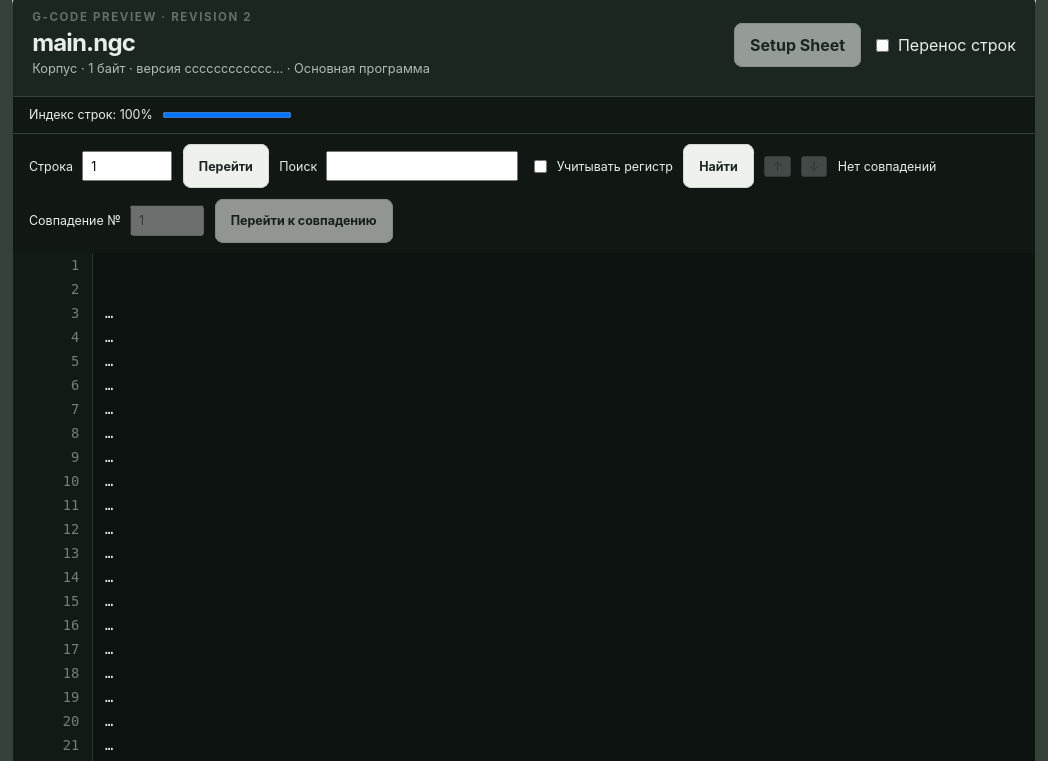
it: GCodePreview › pages through the complete virtual line range while wrapped rows use natural heights
Click the checkbox labelled "Перенос строк" at (882, 45), box top-left (876, 38), bottom-right (888, 52)
(page scrolled)
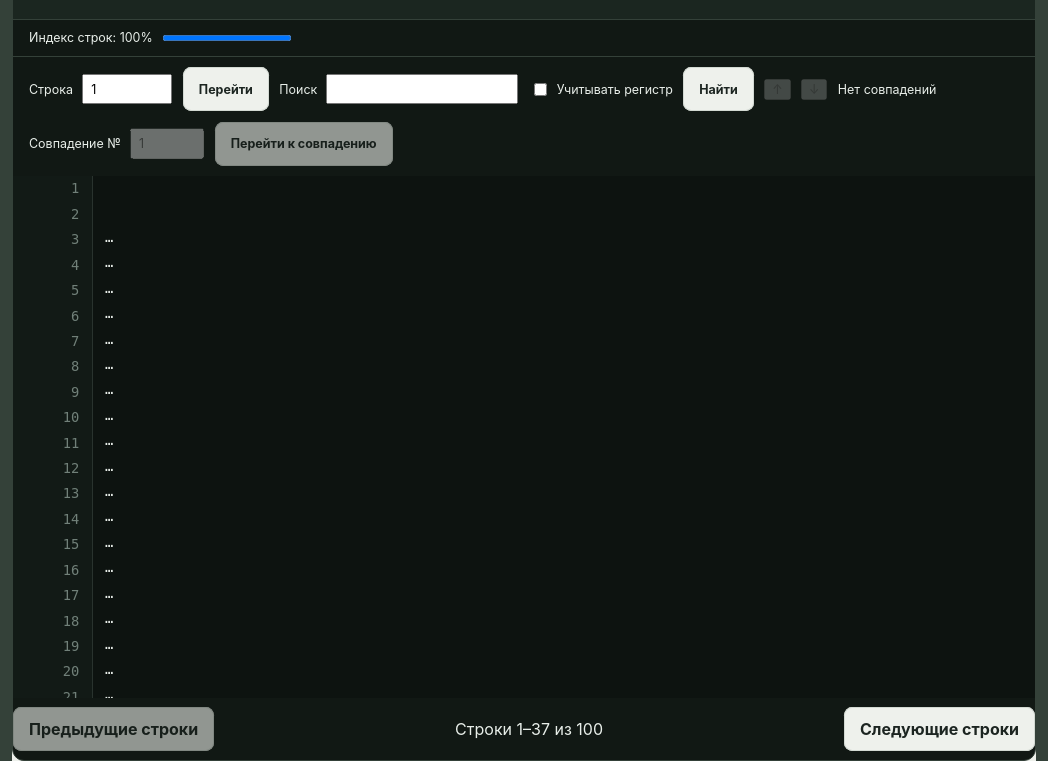
Check: the button "Следующие строки" is enabled
Click the button "Следующие строки" at (940, 729), box top-left (844, 707), bottom-right (1035, 751)
(page scrolled)
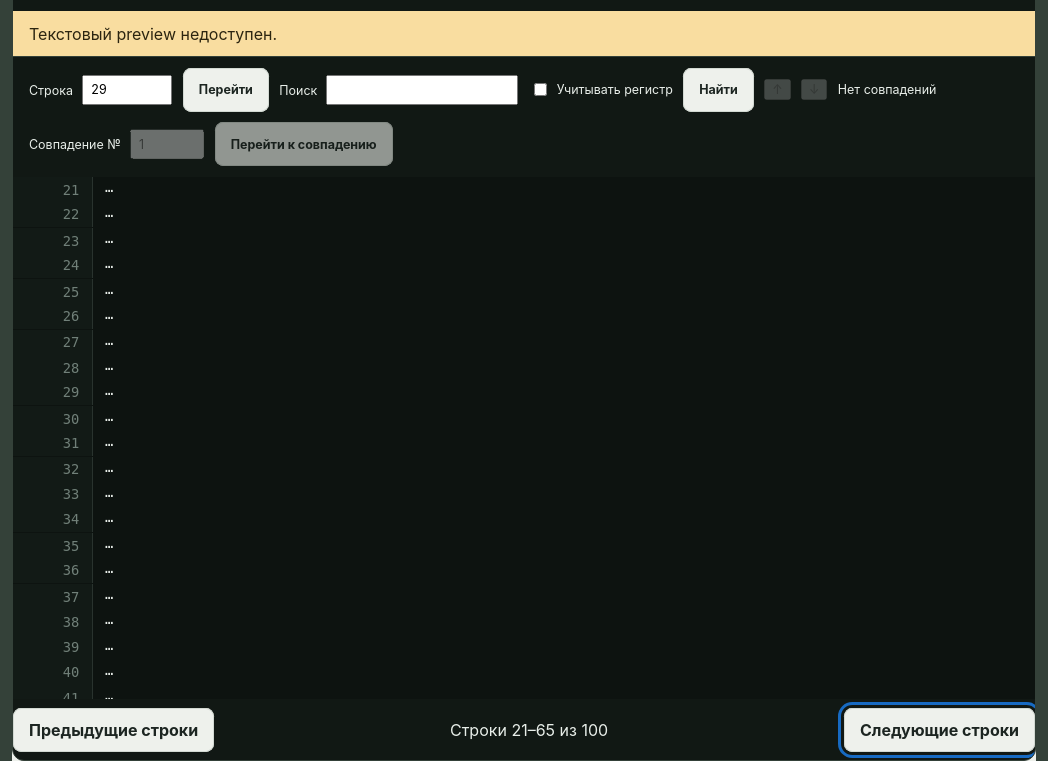
Check: the text "Строки 21–65 из 100" is shown, box top-left (450, 720), bottom-right (608, 740)
Check: the button "Предыдущие строки" is enabled, box top-left (13, 708), bottom-right (214, 752)
